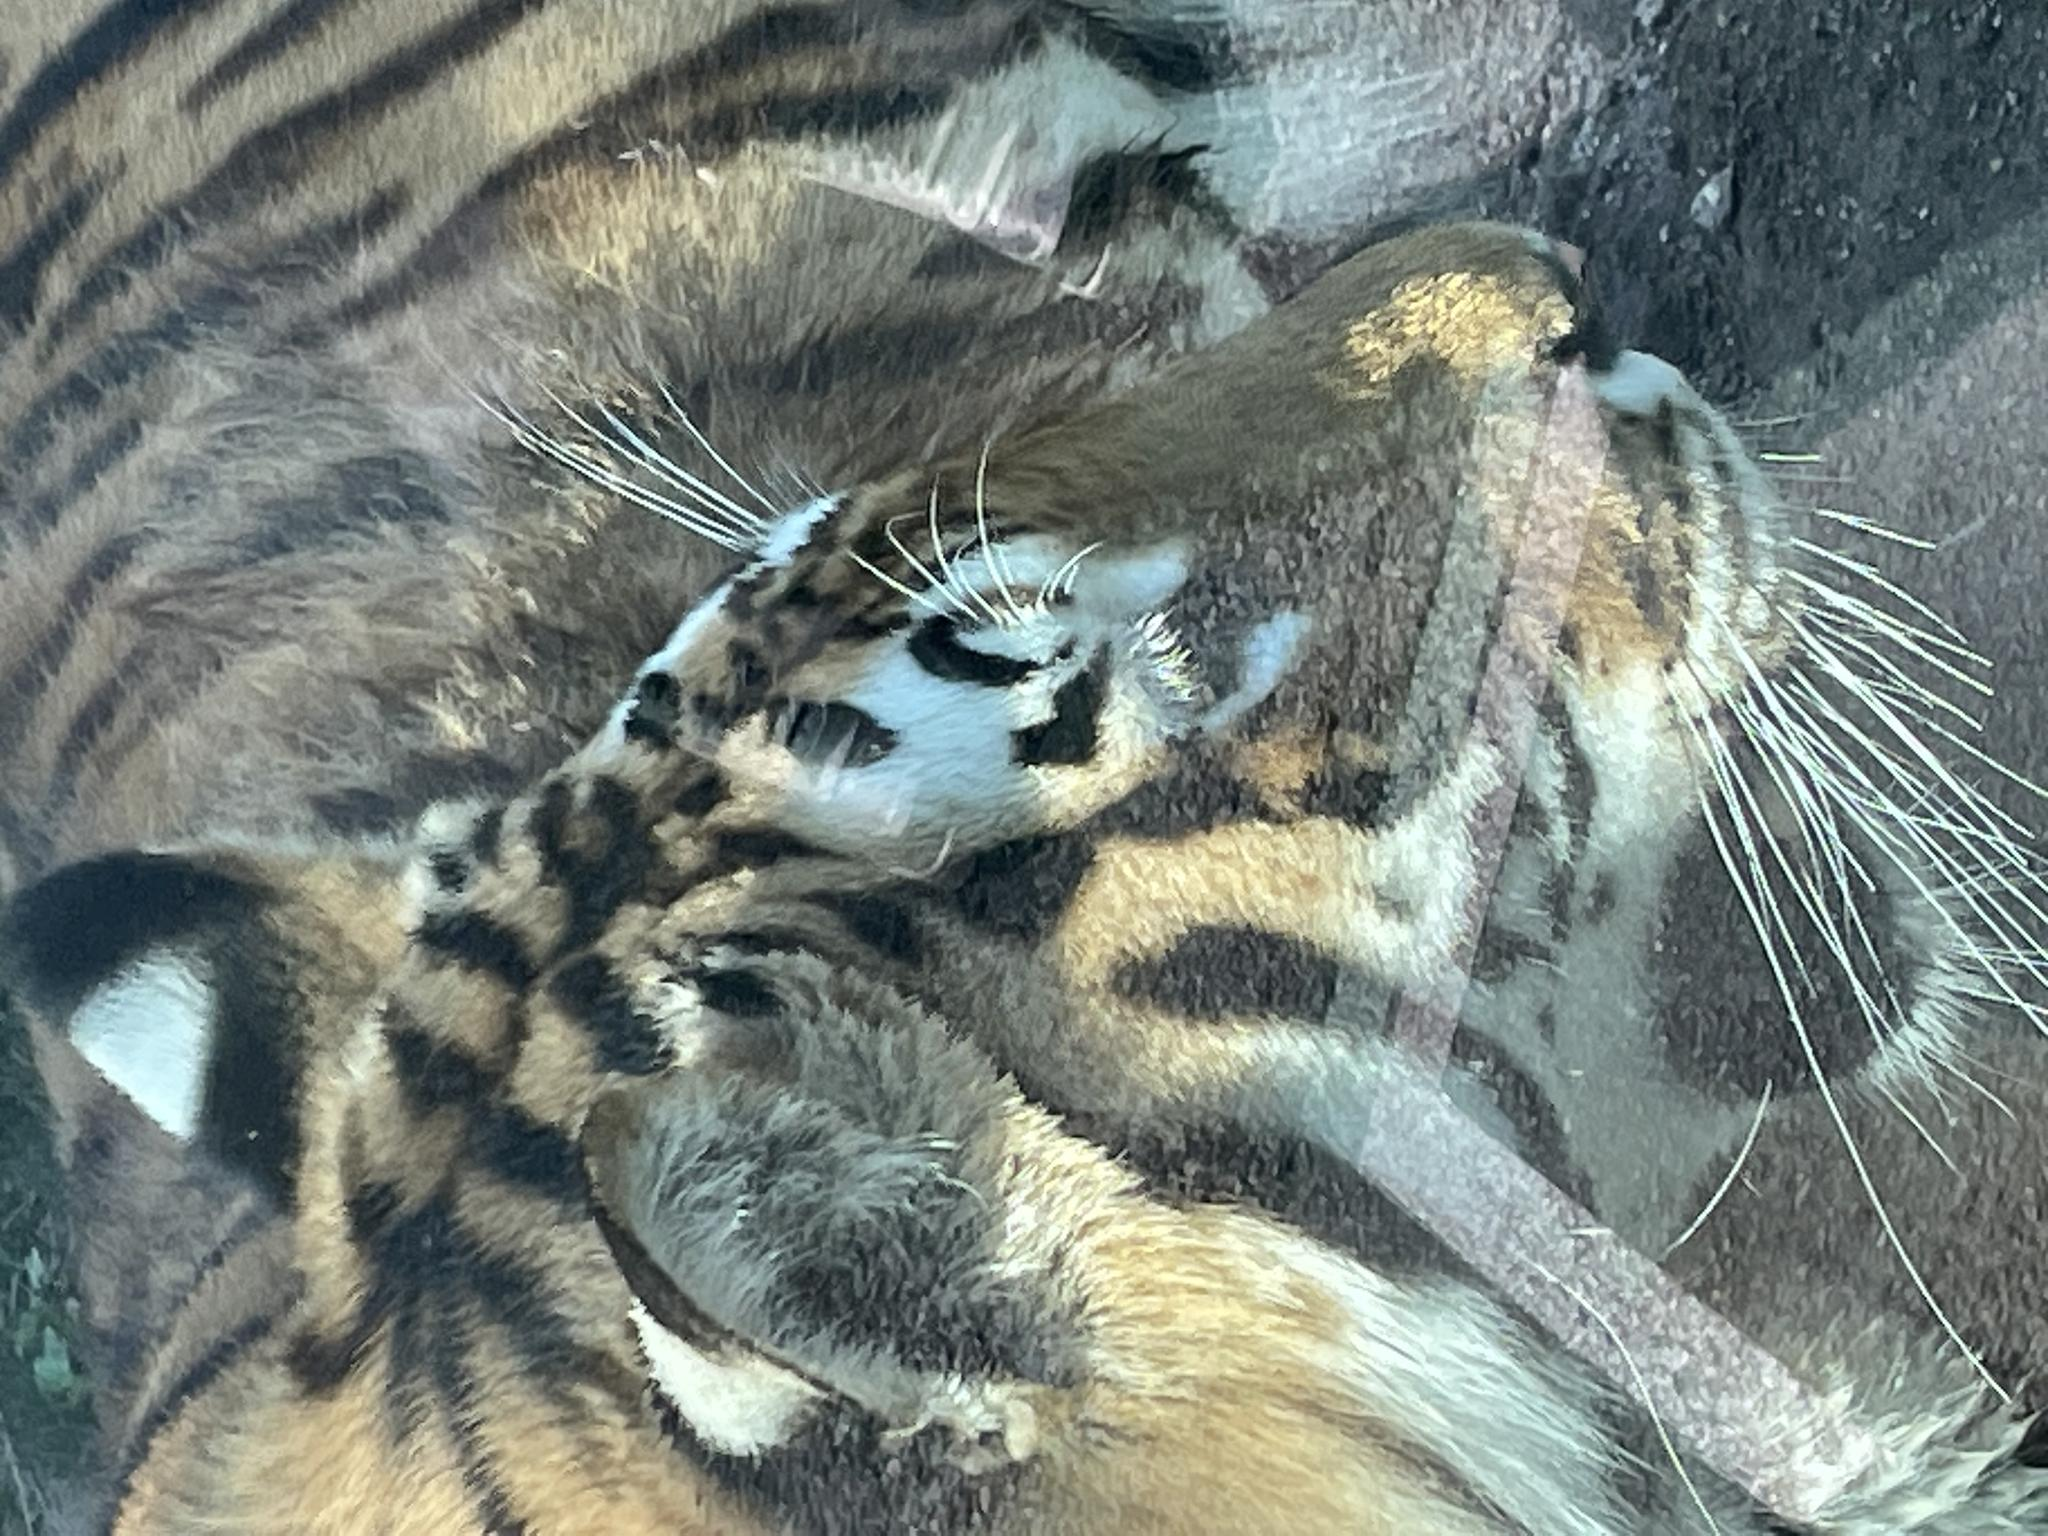tiger: (2, 2, 1532, 1536)
